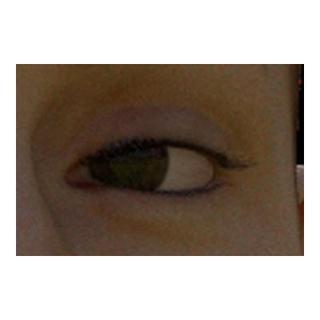pupil: (111, 144, 142, 176)
